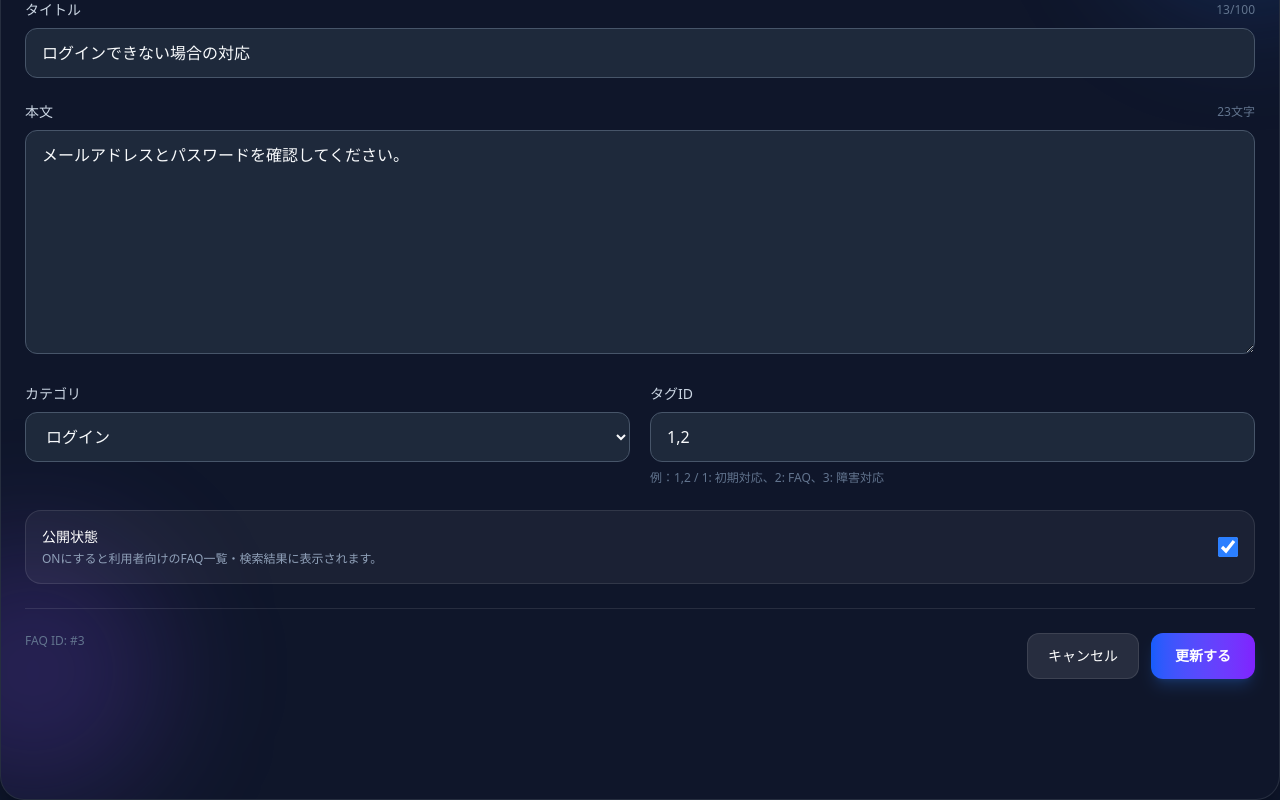
EditFaqPage › 更新に失敗した場合はエラーメッセージを表示する
The width and height of the screenshot is (1280, 800).
(page scrolled)
Expected: the field showing "ログインできない場合の対応" below "タイトル" is shown, [25, 28, 1255, 78]
Click the button "更新する".
click(1203, 656)  # box [1151, 633, 1255, 679]
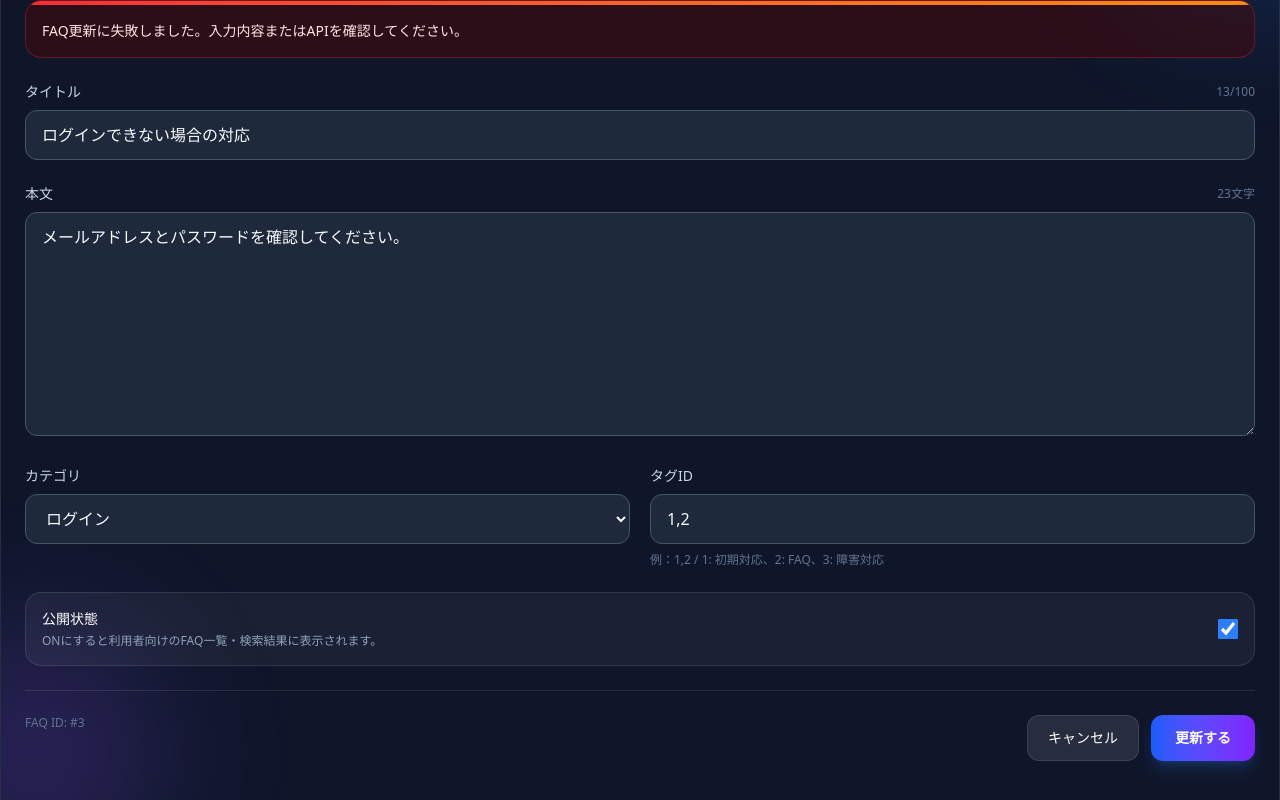
Now the text "FAQ更新に失敗しました。入力内容またはAPIを確認してください。" is shown, box [42, 21, 468, 40]
